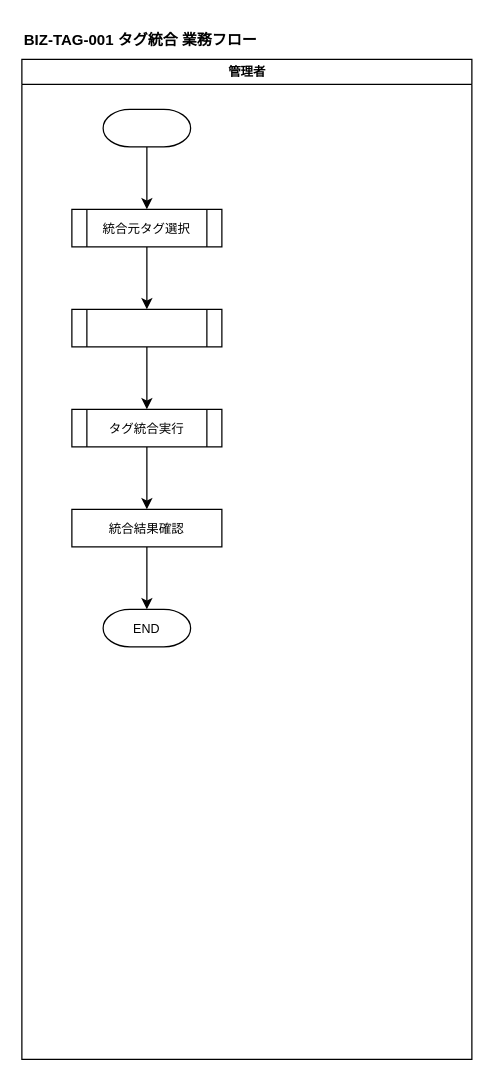
Image size: 494x1081. Some labels were removed from this diagram. Each missing label, with the centre of its shape:
START: pixel 146 127
統合先タグ選択: pixel 146 327
